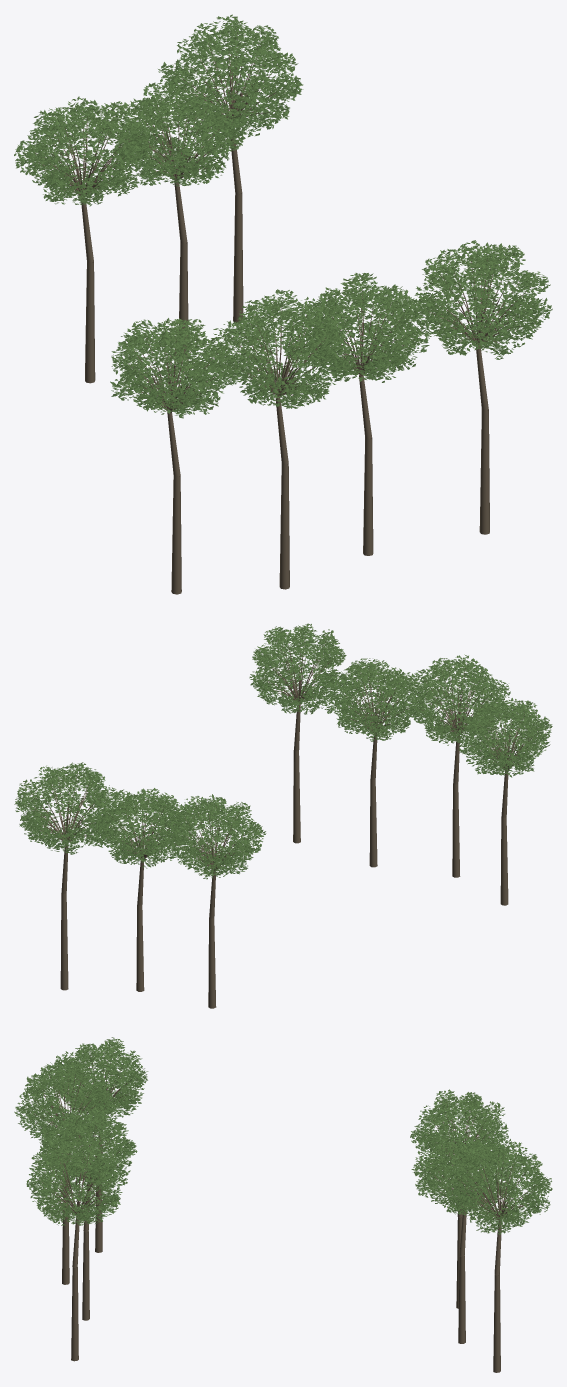
Rendered from exterior.glb.
The picture shows the model from 3 angles, top to bottom: view 1: azimuth 30°, elevation 25°; view 2: azimuth 150°, elevation 25°; view 3: azimuth 270°, elevation 25°; orthographic projection. The views are drawn at different scales.
Parts seen in each view (by area): view 1: Tree canopy 04 / South / master / leaves, Tree canopy 02 / South / living west / leaves, Tree canopy 07 / North / background / leaves, Tree canopy 05 / North / guest / leaves, Tree canopy 01 / South / kitchen / leaves, Tree canopy 06 / North / study / leaves, Tree canopy 03 / South / living east / leaves, Tree canopy 02 / South / living west / branches, Tree canopy 05 / North / guest / branches, Tree canopy 04 / South / master / branches, Tree canopy 07 / North / background / branches, Tree canopy 03 / South / living east / branches (+2 smaller); view 2: Tree canopy 07 / North / background / leaves, Tree canopy 04 / South / master / leaves, Tree canopy 05 / North / guest / leaves, Tree canopy 02 / South / living west / leaves, Tree canopy 03 / South / living east / leaves, Tree canopy 01 / South / kitchen / leaves, Tree canopy 06 / North / study / leaves, Tree canopy 07 / North / background / branches, Tree canopy 04 / South / master / branches, Tree canopy 02 / South / living west / branches, Tree canopy 05 / North / guest / branches, Tree canopy 03 / South / living east / branches (+2 smaller); view 3: Tree canopy 07 / North / background / leaves, Tree canopy 04 / South / master / leaves, Tree canopy 02 / South / living west / leaves, Tree canopy 05 / North / guest / leaves, Tree canopy 01 / South / kitchen / leaves, Tree canopy 03 / South / living east / leaves, Tree canopy 06 / North / study / leaves, Tree canopy 07 / North / background / branches, Tree canopy 04 / South / master / branches, Tree canopy 06 / North / study / branches, Tree canopy 02 / South / living west / branches, Tree canopy 03 / South / living east / branches (+2 smaller).
Part boxes in pixels (<box>): Tree canopy 04 / South / master / leaves: <box>410,240,552,359</box>; Tree canopy 02 / South / living west / leaves: <box>212,289,349,408</box>; Tree canopy 07 / North / background / leaves: <box>158,14,303,139</box>; Tree canopy 05 / North / guest / leaves: <box>14,96,150,206</box>; Tree canopy 01 / South / kitchen / leaves: <box>110,318,237,418</box>; Tree canopy 06 / North / study / leaves: <box>116,81,245,186</box>; Tree canopy 03 / South / living east / leaves: <box>303,273,431,382</box>; Tree canopy 02 / South / living west / branches: <box>231,307,328,589</box>; Tree canopy 05 / North / guest / branches: <box>35,116,130,383</box>; Tree canopy 04 / South / master / branches: <box>428,257,533,534</box>; Tree canopy 07 / North / background / branches: <box>176,32,282,322</box>; Tree canopy 03 / South / living east / branches: <box>330,289,414,555</box>; Tree canopy 07 / North / background / leaves: <box>14,762,119,854</box>; Tree canopy 04 / South / master / leaves: <box>249,623,348,714</box>; Tree canopy 05 / North / guest / leaves: <box>160,794,266,879</box>; Tree canopy 02 / South / living west / leaves: <box>408,654,510,745</box>; Tree canopy 03 / South / living east / leaves: <box>323,658,424,741</box>; Tree canopy 01 / South / kitchen / leaves: <box>459,698,552,777</box>; Tree canopy 06 / North / study / leaves: <box>95,788,194,868</box>; Tree canopy 07 / North / background / branches: <box>28,773,100,990</box>; Tree canopy 04 / South / master / branches: <box>264,635,334,843</box>; Tree canopy 02 / South / living west / branches: <box>421,668,492,877</box>; Tree canopy 05 / North / guest / branches: <box>175,807,246,1008</box>; Tree canopy 03 / South / living east / branches: <box>341,669,408,867</box>; Tree canopy 07 / North / background / leaves: <box>442,1139,552,1234</box>; Tree canopy 04 / South / master / leaves: <box>26,1136,127,1225</box>; Tree canopy 02 / South / living west / leaves: <box>14,1058,124,1147</box>; Tree canopy 05 / North / guest / leaves: <box>410,1089,511,1172</box>; Tree canopy 01 / South / kitchen / leaves: <box>53,1037,148,1118</box>; Tree canopy 03 / South / living east / leaves: <box>39,1107,137,1190</box>; Tree canopy 06 / North / study / leaves: <box>411,1132,516,1213</box>; Tree canopy 07 / North / background / branches: <box>457,1153,538,1372</box>; Tree canopy 04 / South / master / branches: <box>40,1149,108,1361</box>; Tree canopy 06 / North / study / branches: <box>428,1144,489,1343</box>; Tree canopy 02 / South / living west / branches: <box>31,1074,105,1284</box>; Tree canopy 03 / South / living east / branches: <box>56,1121,119,1320</box>.
Size of the model in its own units: 20.66 by 13.4 by 29.24.
